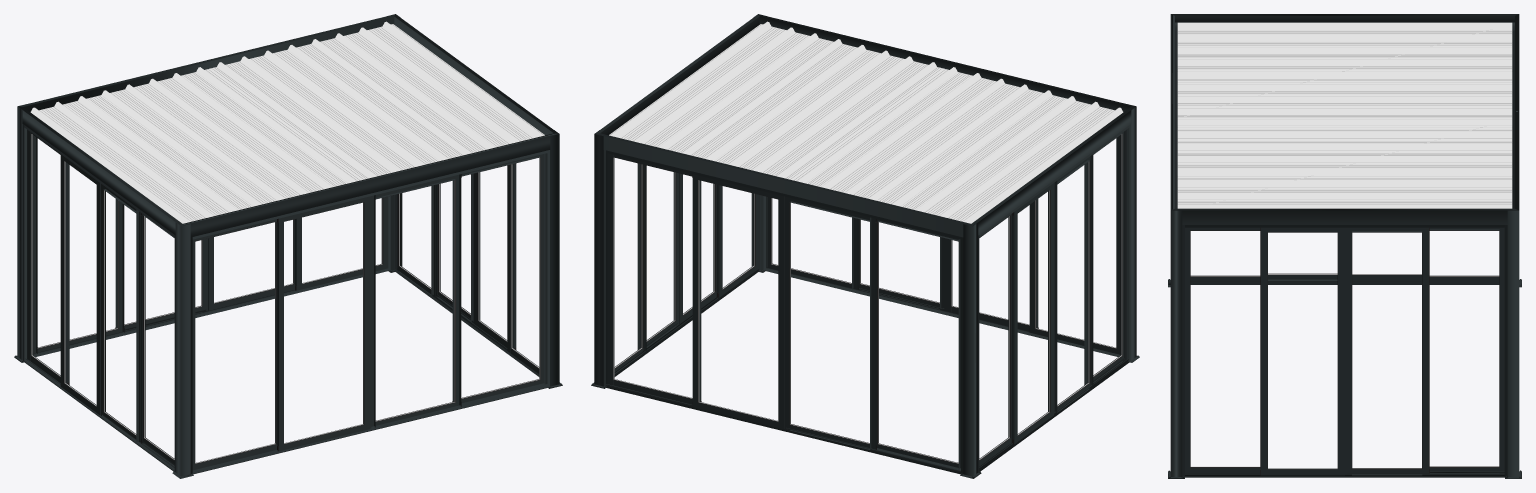
3 views of the same model, side by side, from view 1: azimuth 30°, elevation 25°; view 2: azimuth 150°, elevation 25°; view 3: azimuth 270°, elevation 25° (orthographic). The views are drawn at different scales.
Visible parts, largest first — view 1: priximbattable_net_pergola_aluminium_1282_pergola_aluminium_, folha2_4, folha3_4, folha2_2, folha3_2, folha1_2, folha4_4, folha4, folha1_4, folha2_3, folha1, folha4_2 (+5 smaller); view 2: priximbattable_net_pergola_aluminium_1282_pergola_aluminium_, folha2, folha3, folha2_2, folha1, folha3_2, folha1_4, folha4_2, folha4, folha3_3, folha2_3, folha1_3 (+5 smaller); view 3: priximbattable_net_pergola_aluminium_1282_pergola_aluminium_, folha2_3, folha3_3, folha1_3, folha4_3, folha1_2, folha2_2, folha3_2, folha4_2.
Part boxes in pixels (left/top/right/bottom): priximbattable_net_pergola_aluminium_1282_pergola_aluminium_: left=14, top=14, right=562, bottom=478; folha2_4: left=277, top=196, right=371, bottom=451; folha3_4: left=371, top=174, right=461, bottom=427; folha2_2: left=60, top=154, right=102, bottom=415; folha3_2: left=100, top=183, right=142, bottom=443; folha1_2: left=27, top=130, right=69, bottom=384; folha4_4: left=452, top=154, right=543, bottom=404; folha4: left=33, top=135, right=124, bottom=353; folha1_4: left=192, top=219, right=276, bottom=470; folha2_3: left=474, top=163, right=516, bottom=349; folha1: left=295, top=196, right=388, bottom=290; folha4_2: left=140, top=213, right=174, bottom=466; priximbattable_net_pergola_aluminium_1282_pergola_aluminium_: left=591, top=14, right=1139, bottom=478; folha2: left=692, top=174, right=786, bottom=428; folha3: left=784, top=196, right=876, bottom=449; folha2_2: left=1011, top=183, right=1054, bottom=444; folha1: left=608, top=153, right=701, bottom=404; folha3_2: left=1054, top=154, right=1093, bottom=412; folha1_4: left=1029, top=135, right=1120, bottom=354; folha4_2: left=1084, top=132, right=1123, bottom=384; folha4: left=877, top=219, right=960, bottom=469; folha3_3: left=637, top=163, right=679, bottom=349; folha2_3: left=676, top=173, right=716, bottom=324; folha1_3: left=716, top=184, right=758, bottom=298; priximbattable_net_pergola_aluminium_1282_pergola_aluminium_: left=1168, top=14, right=1521, bottom=478; folha2_3: left=1260, top=227, right=1346, bottom=475; folha3_3: left=1347, top=227, right=1429, bottom=475; folha1_3: left=1185, top=227, right=1260, bottom=473; folha4_3: left=1429, top=227, right=1504, bottom=473; folha1_2: left=1429, top=275, right=1499, bottom=281; folha2_2: left=1352, top=274, right=1421, bottom=280; folha3_2: left=1268, top=273, right=1337, bottom=280; folha4_2: left=1190, top=275, right=1260, bottom=280.
Bounding box in the file's own units: 404 × 254 × 304.
1 material, 1 textured.
